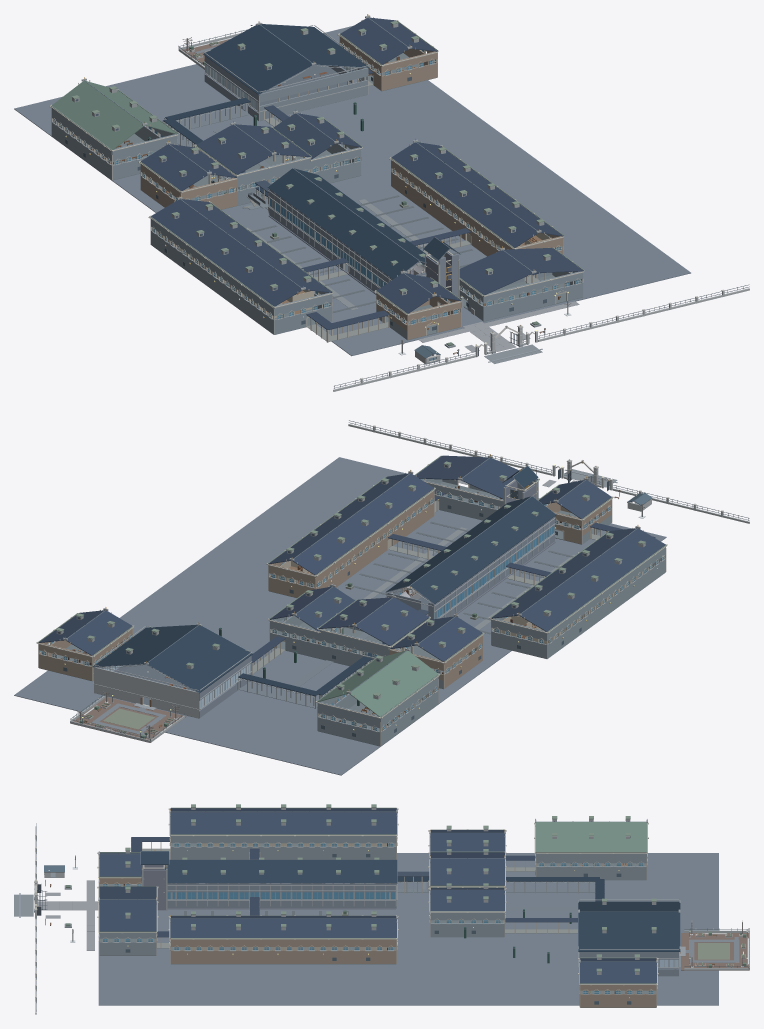
The model's file is lahudi-academy.glb.
3 views of the same model, one above another, from view 1: azimuth 30°, elevation 25°; view 2: azimuth 150°, elevation 25°; view 3: azimuth 270°, elevation 25° (orthographic). The views are drawn at different scales.
Parts seen in each view (by area): view 1: RG-GAME-02-EXTERIOR-REBUILD-V5__winter_campus_snowbase, RG-GAME-02-EXTERIOR-REBUILD-V5__academic_high_gable_slate_ro (×2), RG-GAME-02-EXTERIOR-REBUILD-V5__library_high_gable_slate_roo (×2), RG-GAME-02-PLAN-LOCK-V9__B_WEST_side_0, RG-GAME-02-PLAN-LOCK-V9__C_EAST_side_0, RG-GAME-02-PLAN-LOCK-V9__G_ASSEMBLY_side_0, RG-GAME-02-PLAN-LOCK-V9__B_WEST_side_1, RG-GAME-02-PLAN-LOCK-V9__B_WEST_west_wall_band_-68.00_24.00 (×2), RG-GAME-02-PLAN-LOCK-V9__E_CENTER_HALL_side_0, RG-GAME-02-PLAN-LOCK-V9__D_EAST_ENTRY_side_0, RG-GAME-02-PLAN-LOCK-V9__C_EAST_west_wall_band_-68.00_24.00 (×2), RG-GAME-02-PLAN-LOCK-V9__F_LIBRARY_SOUTH_REPLACEMENT_wall_ba (×2) (+27 smaller); view 2: RG-GAME-02-EXTERIOR-REBUILD-V5__winter_campus_snowbase, RG-GAME-02-EXTERIOR-REBUILD-V5__academic_high_gable_slate_ro (×2), RG-GAME-02-EXTERIOR-REBUILD-V5__library_high_gable_slate_roo (×2), RG-GAME-02-PLAN-LOCK-V9__B_WEST_side_0, RG-GAME-02-PLAN-LOCK-V9__C_EAST_side_0, RG-GAME-02-VITTI-GARDEN-V15__BATCH_LIBRARY_BACKDOOR_old_ston, RG-GAME-02-PLAN-LOCK-V9__G_ASSEMBLY_side_0, RG-GAME-02-PLAN-LOCK-V9__B_WEST_side_1, RG-GAME-02-PLAN-LOCK-V9__B_WEST_west_wall_band_-68.00_24.00 (×2), RG-GAME-02-PLAN-LOCK-V9__E_CENTER_HALL_side_0, RG-GAME-02-PLAN-LOCK-V9__C_EAST_west_wall_band_-68.00_24.00 (×2), RG-GAME-02-PLAN-LOCK-V9__C_EAST_side_1 (+26 smaller); view 3: RG-GAME-02-EXTERIOR-REBUILD-V5__winter_campus_snowbase, RG-GAME-02-EXTERIOR-REBUILD-V5__academic_high_gable_slate_ro, RG-GAME-02-EXTERIOR-REBUILD-V5__library_high_gable_slate_roo (×2), RG-GAME-02-PLAN-LOCK-V9__B_WEST_side_1, RG-GAME-02-PLAN-LOCK-V9__C_EAST_side_1, RG-GAME-02-PLAN-LOCK-V9__G_ASSEMBLY_side_1, RG-GAME-02-PLAN-LOCK-V9__B_WEST_east_wall_band_-68.00_24.00 (×2), RG-GAME-02-PLAN-LOCK-V9__C_EAST_east_wall_band_-68.00_24.00 (×2), RG-GAME-02-PLAN-LOCK-V9__E_CENTER_HALL_side_1, RG-GAME-02-PLAN-LOCK-V9__G_ASSEMBLY_east_wall_band_-170.00_- (×2), RG-GAME-02-PLAN-LOCK-V9__D_EAST_ENTRY_side_1, RG-GAME-02-PLAN-LOCK-V9__C_EAST_east_low_wall_-68.00_24.00 (+41 smaller).
Boxes of the visible parts, x1,y1,x2,y2 form: RG-GAME-02-EXTERIOR-REBUILD-V5__winter_campus_snowbase: [14, 25, 690, 356]; RG-GAME-02-EXTERIOR-REBUILD-V5__academic_high_gable_slate_ro (×2): [267, 168, 436, 279]; RG-GAME-02-EXTERIOR-REBUILD-V5__library_high_gable_slate_roo (×2): [203, 24, 369, 94]; RG-GAME-02-PLAN-LOCK-V9__B_WEST_side_0: [151, 199, 302, 306]; RG-GAME-02-PLAN-LOCK-V9__C_EAST_side_0: [391, 142, 538, 247]; RG-GAME-02-PLAN-LOCK-V9__G_ASSEMBLY_side_0: [52, 81, 144, 149]; RG-GAME-02-PLAN-LOCK-V9__B_WEST_side_1: [181, 199, 332, 292]; RG-GAME-02-PLAN-LOCK-V9__B_WEST_west_wall_band_-68.00_24.00 (×2): [150, 216, 273, 325]; RG-GAME-02-PLAN-LOCK-V9__E_CENTER_HALL_side_0: [196, 125, 272, 174]; RG-GAME-02-PLAN-LOCK-V9__D_EAST_ENTRY_side_0: [459, 250, 532, 295]; RG-GAME-02-PLAN-LOCK-V9__C_EAST_west_wall_band_-68.00_24.00 (×2): [391, 158, 513, 253]; RG-GAME-02-PLAN-LOCK-V9__F_LIBRARY_SOUTH_REPLACEMENT_wall_ba (×2): [259, 68, 367, 112]; RG-GAME-02-EXTERIOR-REBUILD-V5__winter_campus_snowbase: [14, 457, 666, 775]; RG-GAME-02-EXTERIOR-REBUILD-V5__academic_high_gable_slate_ro (×2): [386, 496, 556, 603]; RG-GAME-02-EXTERIOR-REBUILD-V5__library_high_gable_slate_roo (×2): [93, 625, 252, 692]; RG-GAME-02-PLAN-LOCK-V9__B_WEST_side_0: [520, 528, 665, 631]; RG-GAME-02-PLAN-LOCK-V9__C_EAST_side_0: [293, 473, 433, 575]; RG-GAME-02-VITTI-GARDEN-V15__BATCH_LIBRARY_BACKDOOR_old_ston: [94, 667, 199, 718]; RG-GAME-02-PLAN-LOCK-V9__G_ASSEMBLY_side_0: [349, 650, 438, 716]; RG-GAME-02-PLAN-LOCK-V9__B_WEST_side_1: [491, 528, 636, 618]; RG-GAME-02-PLAN-LOCK-V9__B_WEST_west_wall_band_-68.00_24.00 (×2): [547, 546, 665, 650]; RG-GAME-02-PLAN-LOCK-V9__E_CENTER_HALL_side_0: [356, 597, 429, 645]; RG-GAME-02-PLAN-LOCK-V9__C_EAST_west_wall_band_-68.00_24.00 (×2): [315, 489, 434, 589]; RG-GAME-02-PLAN-LOCK-V9__C_EAST_side_1: [268, 473, 409, 564]; RG-GAME-02-EXTERIOR-REBUILD-V5__winter_campus_snowbase: [98, 853, 718, 1005]; RG-GAME-02-EXTERIOR-REBUILD-V5__academic_high_gable_slate_ro: [164, 860, 397, 883]; RG-GAME-02-EXTERIOR-REBUILD-V5__library_high_gable_slate_roo (×2): [578, 901, 680, 951]; RG-GAME-02-PLAN-LOCK-V9__B_WEST_side_1: [170, 812, 396, 834]; RG-GAME-02-PLAN-LOCK-V9__C_EAST_side_1: [170, 918, 396, 937]; RG-GAME-02-PLAN-LOCK-V9__G_ASSEMBLY_side_1: [535, 822, 647, 852]; RG-GAME-02-PLAN-LOCK-V9__B_WEST_east_wall_band_-68.00_24.00 (×2): [171, 836, 396, 852]; RG-GAME-02-PLAN-LOCK-V9__C_EAST_east_wall_band_-68.00_24.00 (×2): [171, 939, 396, 956]; RG-GAME-02-PLAN-LOCK-V9__E_CENTER_HALL_side_1: [430, 858, 504, 885]; RG-GAME-02-PLAN-LOCK-V9__G_ASSEMBLY_east_wall_band_-170.00_- (×2): [536, 853, 646, 872]; RG-GAME-02-PLAN-LOCK-V9__D_EAST_ENTRY_side_1: [99, 900, 156, 931]; RG-GAME-02-PLAN-LOCK-V9__C_EAST_east_low_wall_-68.00_24.00: [171, 956, 396, 963].
Bounding box in the file's own units: 180 × 26.24 × 300.
